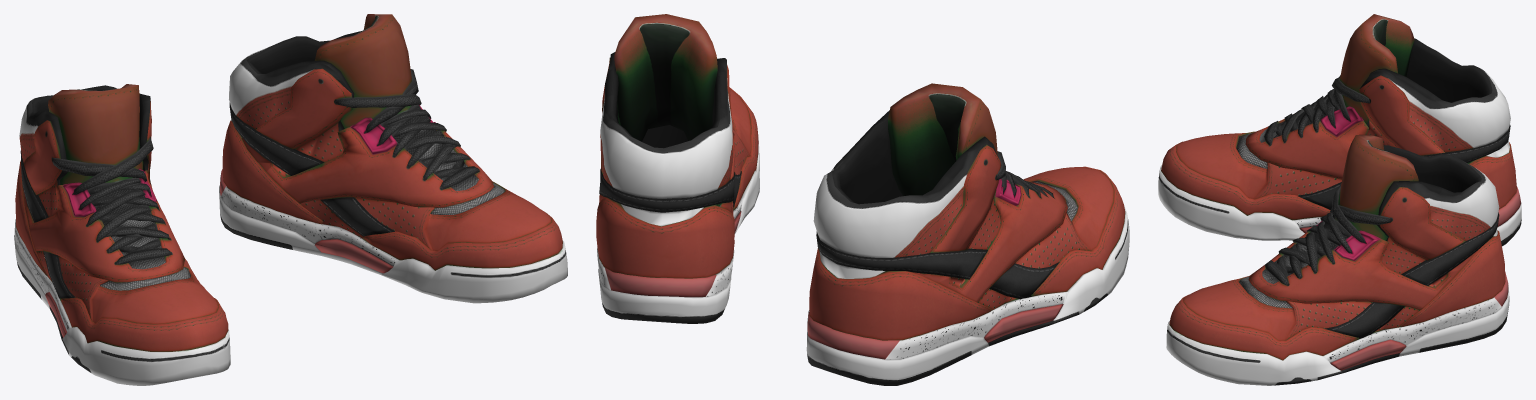
The model's file is brown_sneakers.glb.
3 renders of one model, left to right at view 1: azimuth 30°, elevation 25°; view 2: azimuth 150°, elevation 25°; view 3: azimuth 270°, elevation 25°, orthographic. The views are drawn at different scales.
Parts seen in each view (by area): view 1: rb1.000, rb1.004; view 2: rb1.004, rb1.000; view 3: rb1.000, rb1.004.
Part boxes in pixels (x1=…): rb1.000: x1=219, y1=14, x2=567, y2=303; rb1.004: x1=14, y1=84, x2=230, y2=385; rb1.004: x1=806, y1=83, x2=1129, y2=385; rb1.000: x1=596, y1=14, x2=759, y2=323; rb1.000: x1=1166, y1=134, x2=1509, y2=385; rb1.004: x1=1158, y1=14, x2=1521, y2=246.
Size of the model in its own units: 23.25 by 10.77 by 17.91.
1 material, 1 textured.
